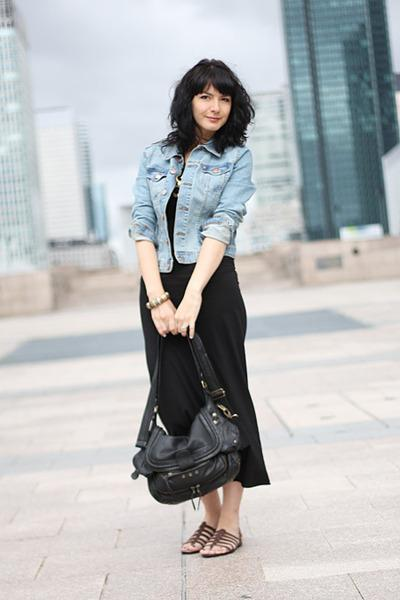bag: (132, 335, 239, 504)
jacket: (122, 138, 256, 272)
shoe: (181, 516, 241, 572)
skirt: (139, 181, 269, 487)
